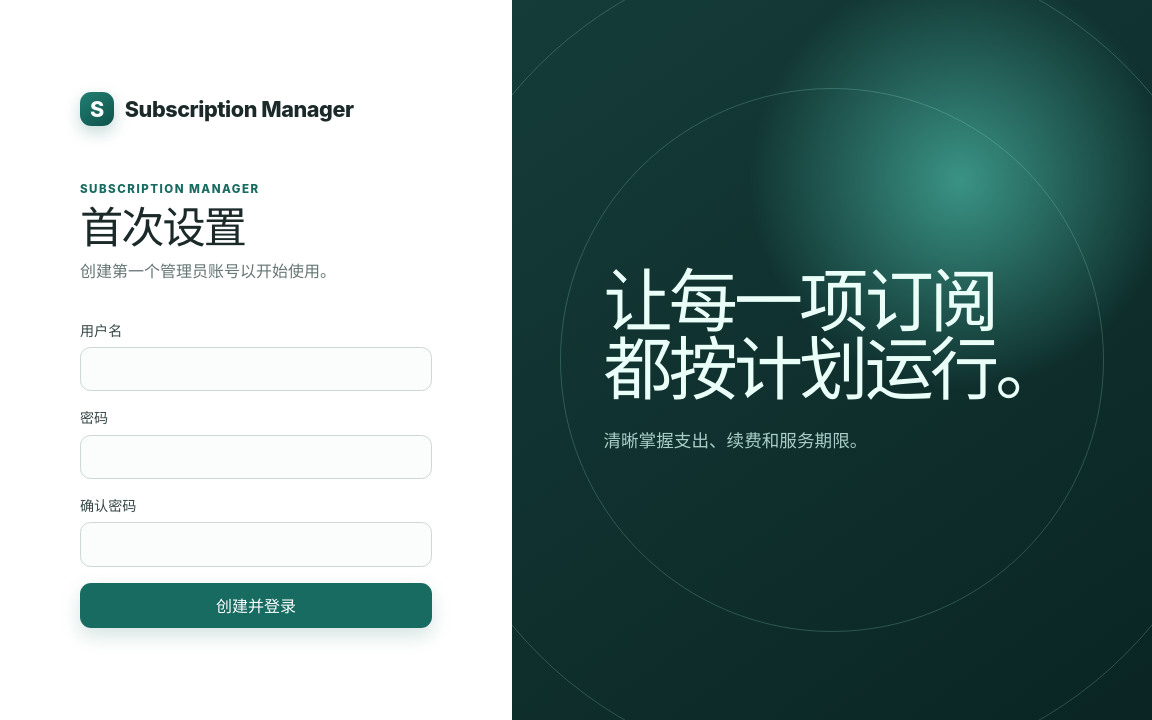
Test: creates the first administrator and signs in from the setup form
Expected: the heading "首次设置" is shown, [80,201,245,253]
Type "admin" into the field labelled "用户名" at (256, 369), box [80,347,432,391]
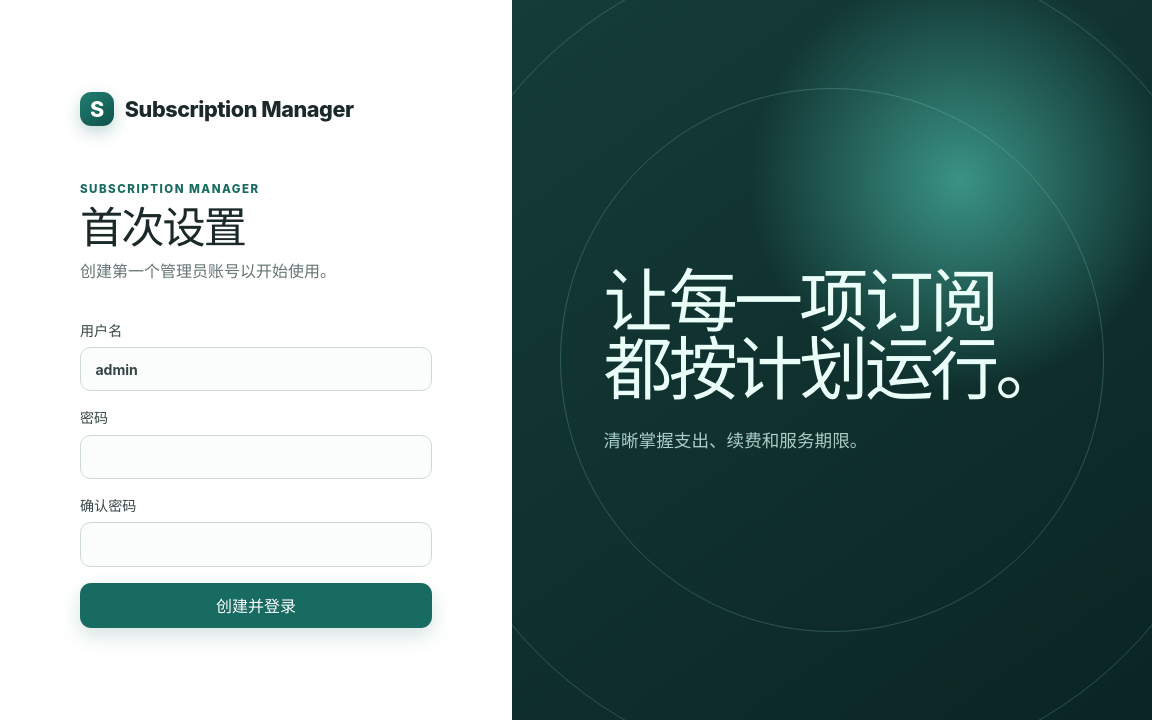
Type "correct horse battery staple" into the password field labelled "密码" at (256, 457), box [80,435,432,479]
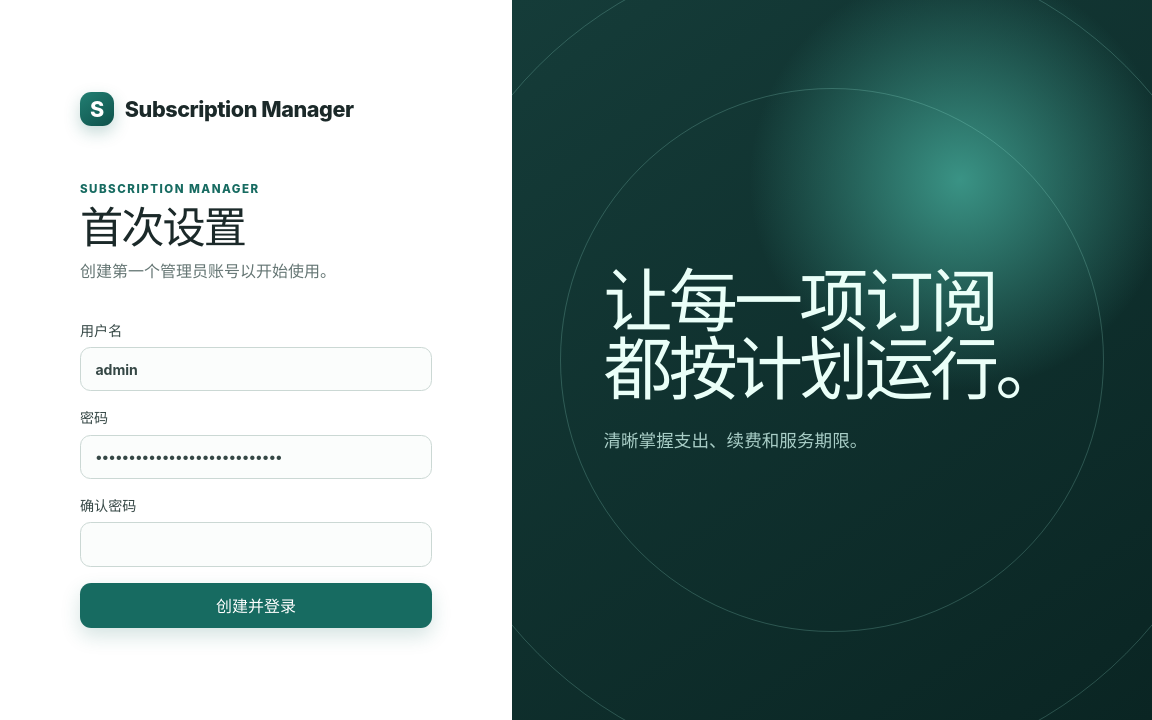
Type "correct horse battery staple" into the password field labelled "确认密码" at (256, 545), box [80,522,432,567]
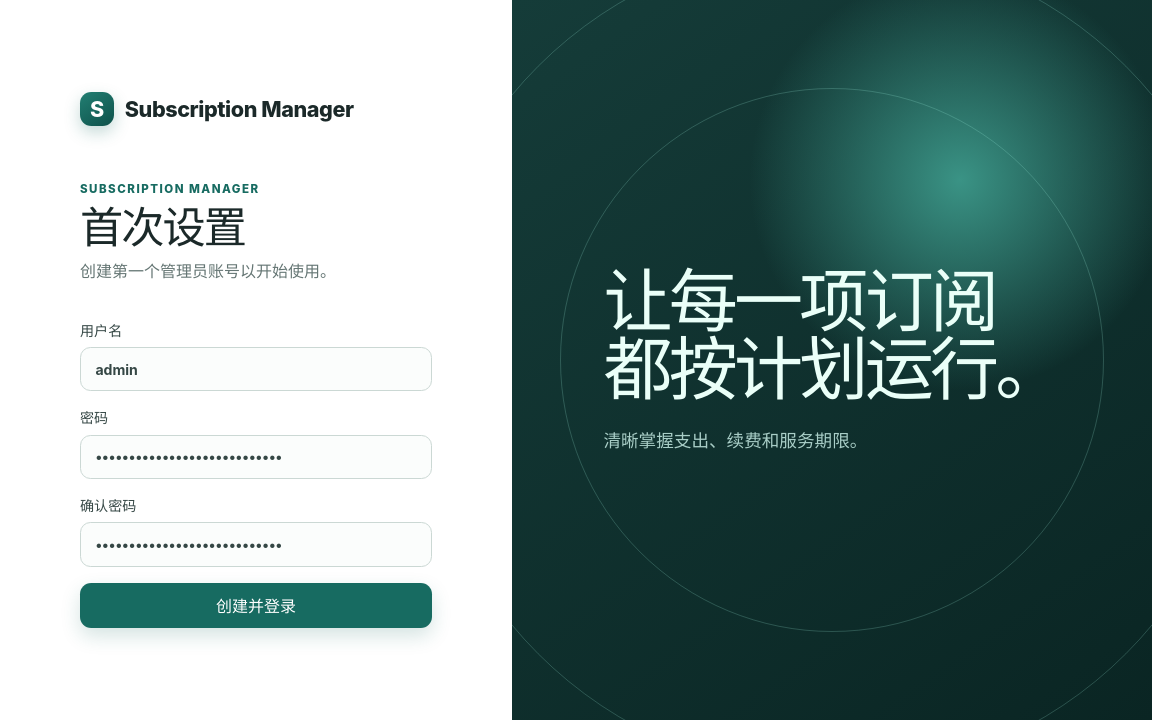
Click the button "创建并登录" at (256, 605), box [80,583,432,628]
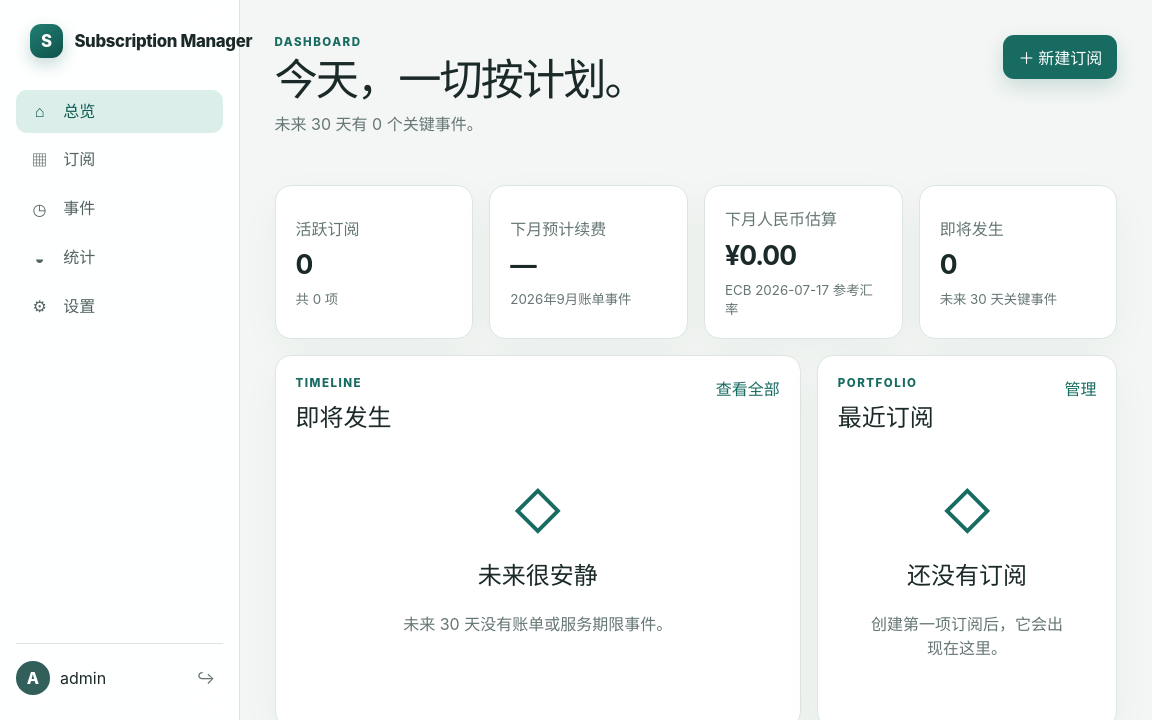
Result: the heading "今天，一切按计划。" is shown at [274,57,646,103]
